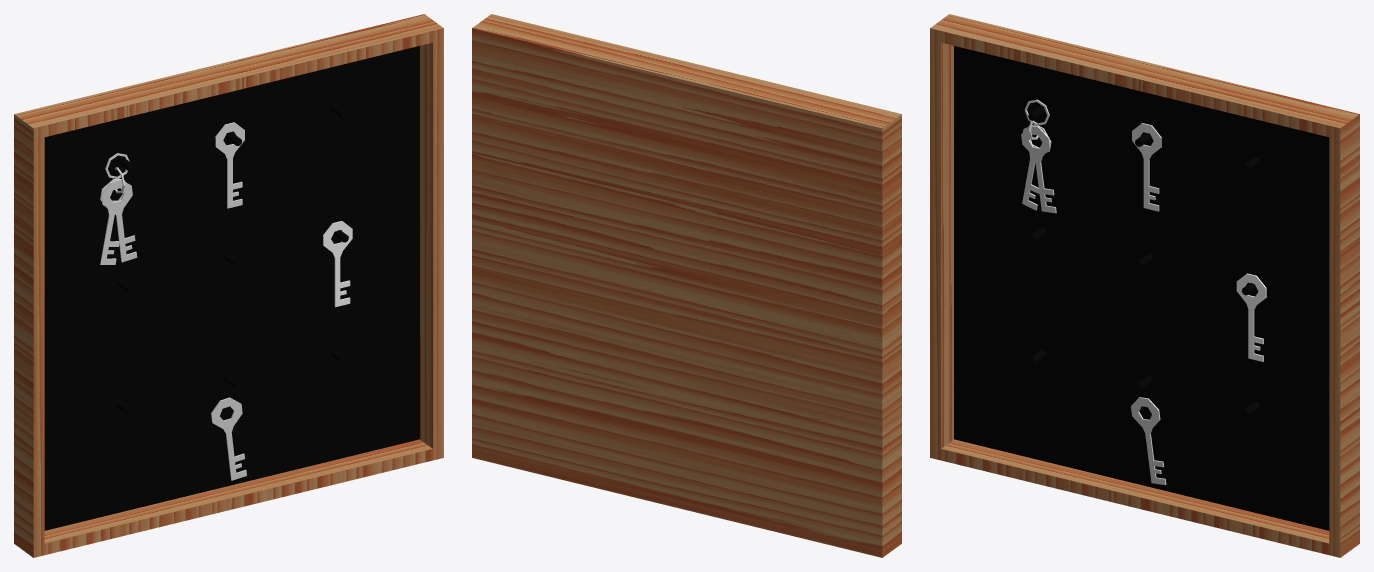
File: KeyBB.fbx
3 views of the same model, side by side, from view 1: azimuth 30°, elevation 25°; view 2: azimuth 150°, elevation 25°; view 3: azimuth 330°, elevation 25° (orthographic).
Parts seen in each view (by area): view 1: Cube.001, Plane.002, Cube.002, Plane.006, Plane.004, Plane.001; view 2: Cube.001; view 3: Cube.001, Plane.002, Cube.002, Plane.004, Plane.001, Plane.006.
Part boxes in pixels (left/top/right/bottom): Cube.001: left=14, top=14, right=443, bottom=557; Plane.002: left=100, top=153, right=137, bottom=264; Cube.002: left=117, top=104, right=348, bottom=416; Plane.006: left=211, top=397, right=246, bottom=480; Plane.004: left=323, top=221, right=352, bottom=307; Plane.001: left=215, top=122, right=244, bottom=208; Cube.001: left=472, top=14, right=901, bottom=557; Cube.001: left=930, top=14, right=1359, bottom=557; Plane.002: left=1021, top=99, right=1056, bottom=213; Cube.002: left=1028, top=105, right=1259, bottom=417; Plane.004: left=1236, top=273, right=1266, bottom=361; Plane.001: left=1132, top=123, right=1161, bottom=211; Plane.006: left=1131, top=397, right=1166, bottom=485.
Size of the model in its own units: 200 by 200 by 16.46.
Materials: 3 (1 with a texture image).
